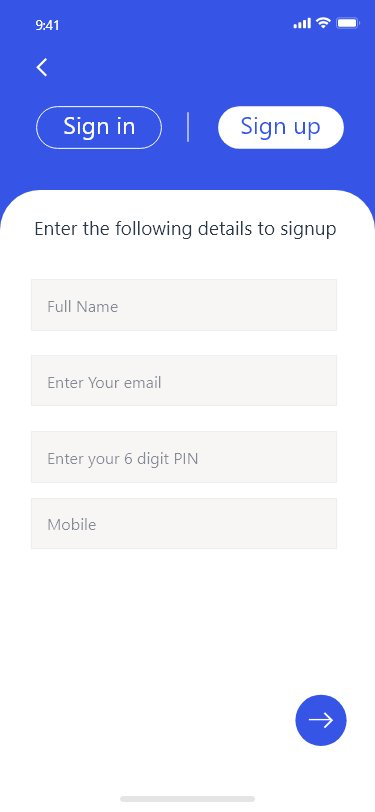EditText: (32, 280, 337, 332), (32, 355, 337, 407), (32, 431, 337, 483), (32, 498, 337, 550)
Icon: (295, 694, 347, 747), (36, 58, 49, 79)
Text: (36, 221, 337, 240), (48, 452, 198, 469), (48, 376, 162, 389), (49, 300, 119, 313), (48, 518, 97, 532)
TextButton: (36, 106, 163, 151), (218, 106, 345, 151)
UpperTaskBar: (36, 16, 361, 32)
